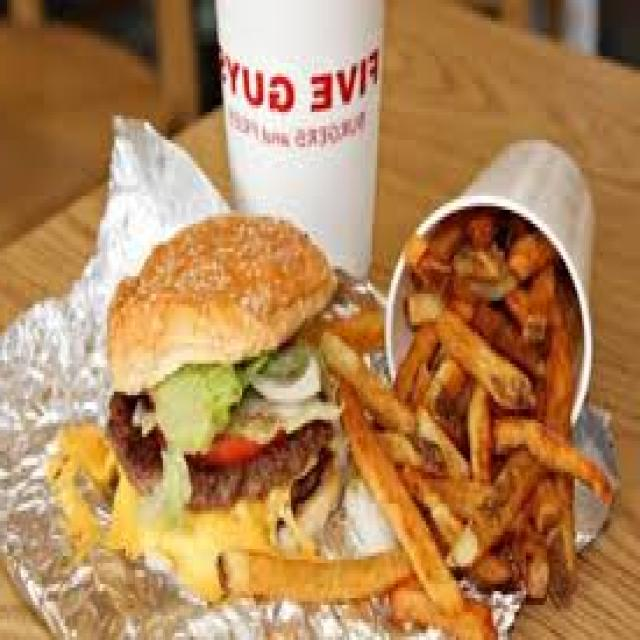Burger: (82, 206, 356, 518)
